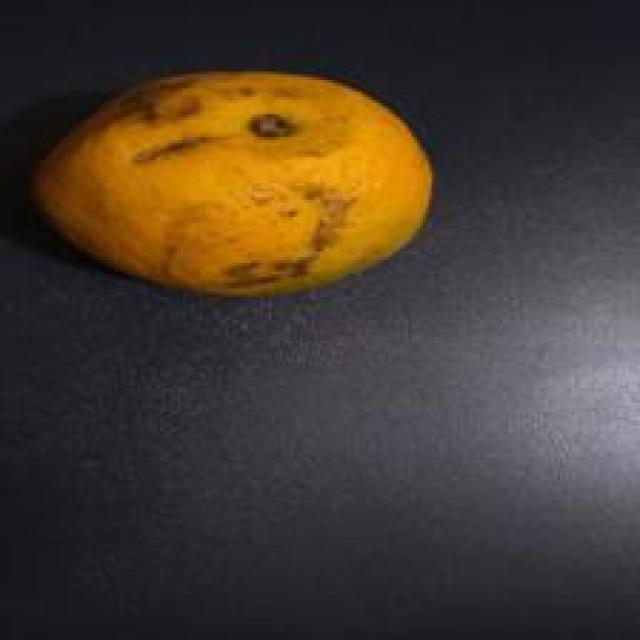overripe: (20, 62, 441, 304)
